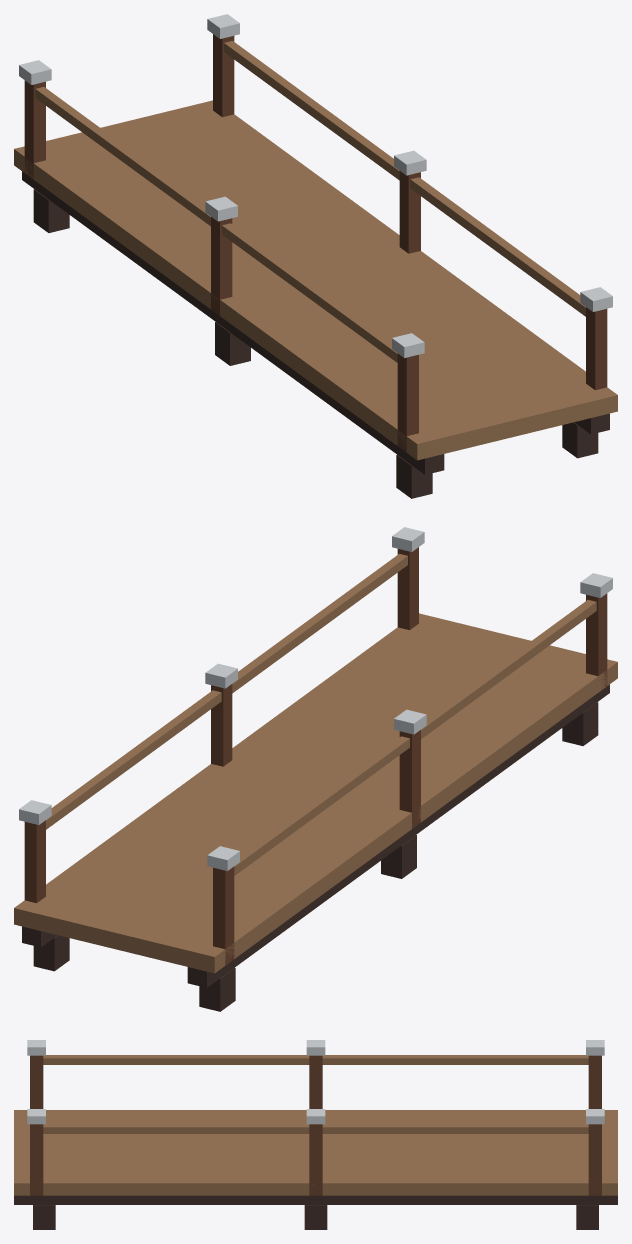
Rendered from Frosty_TimberBridge_Simple.glb.
The picture shows the model from 3 angles, top to bottom: view 1: azimuth 30°, elevation 25°; view 2: azimuth 150°, elevation 25°; view 3: azimuth 270°, elevation 25°; orthographic projection. The views are drawn at different scales.
Visible parts, largest first — view 1: Frosty_TimberBridge_Simple; view 2: Frosty_TimberBridge_Simple; view 3: Frosty_TimberBridge_Simple.
Part boxes in pixels (x1=…): Frosty_TimberBridge_Simple: x1=14, y1=14, x2=617, y2=498; Frosty_TimberBridge_Simple: x1=14, y1=527, x2=617, y2=1011; Frosty_TimberBridge_Simple: x1=14, y1=1040, x2=617, y2=1229.
Size of the model in its own units: 2.39 by 1.72 by 8.
